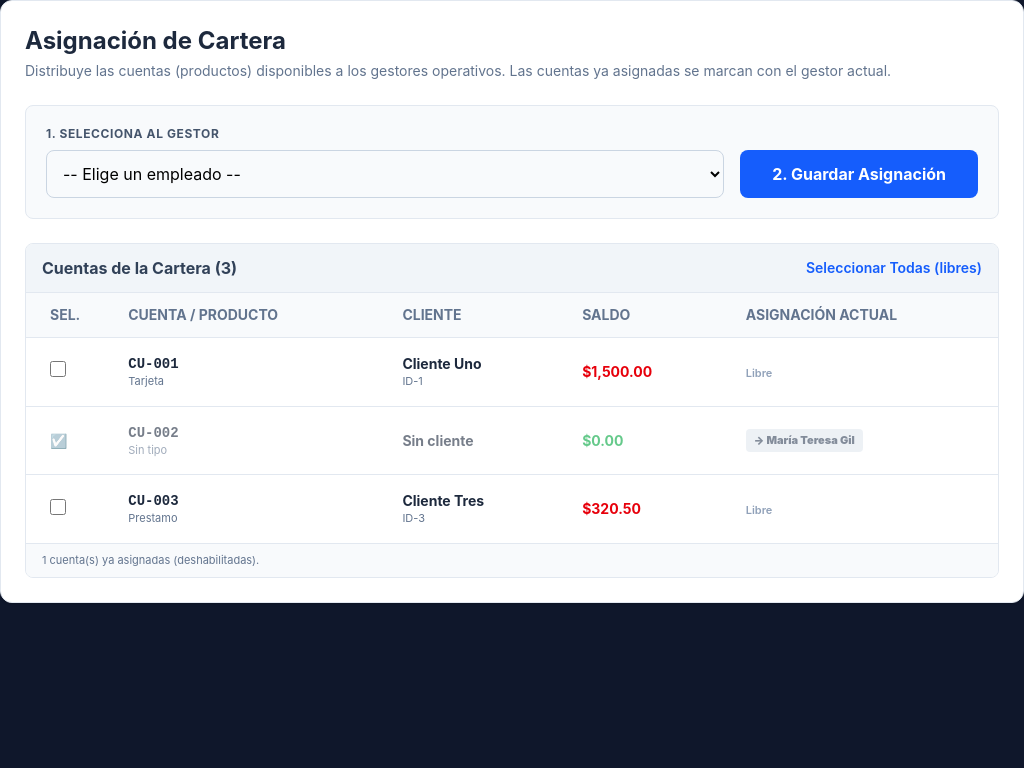
AsignacionCartera: seleccion › vuelve a desmarcarlo todo con el mismo boton
Expected: the text "CU-001" is shown, top-left (128, 356), bottom-right (179, 372)
Click the button "Seleccionar Todas (libres)". click: point(894, 268)
box: top-left (806, 258), bottom-right (982, 278)
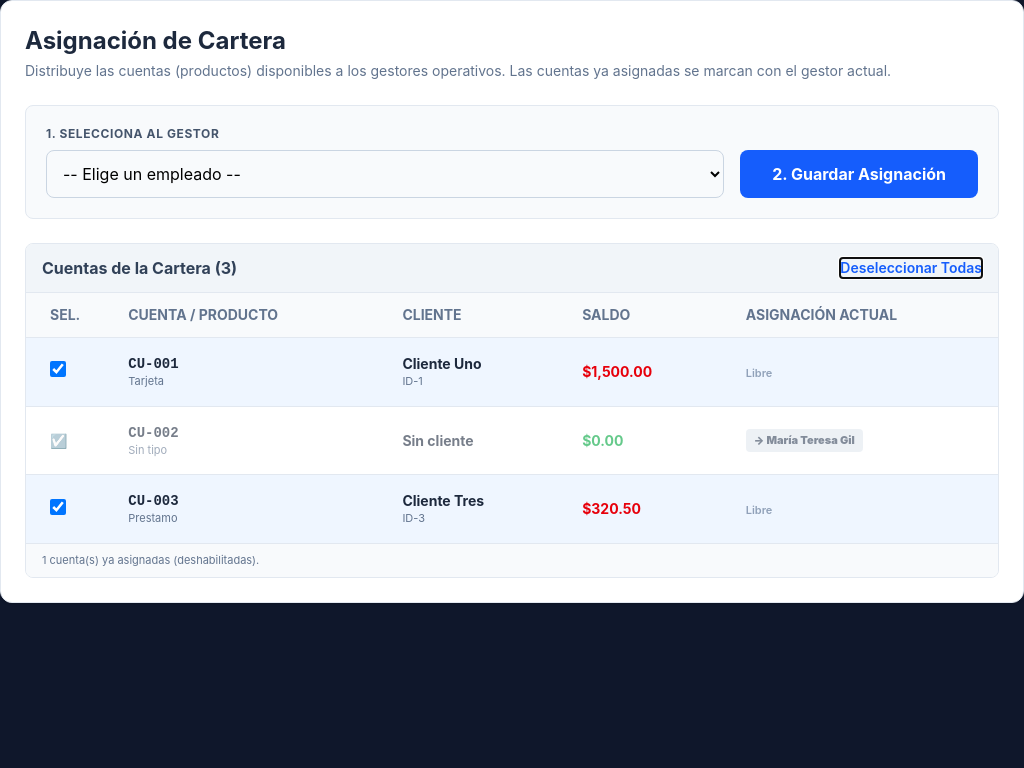
Click the button "Deseleccionar Todas". click: point(911, 268)
box: top-left (840, 258), bottom-right (982, 278)
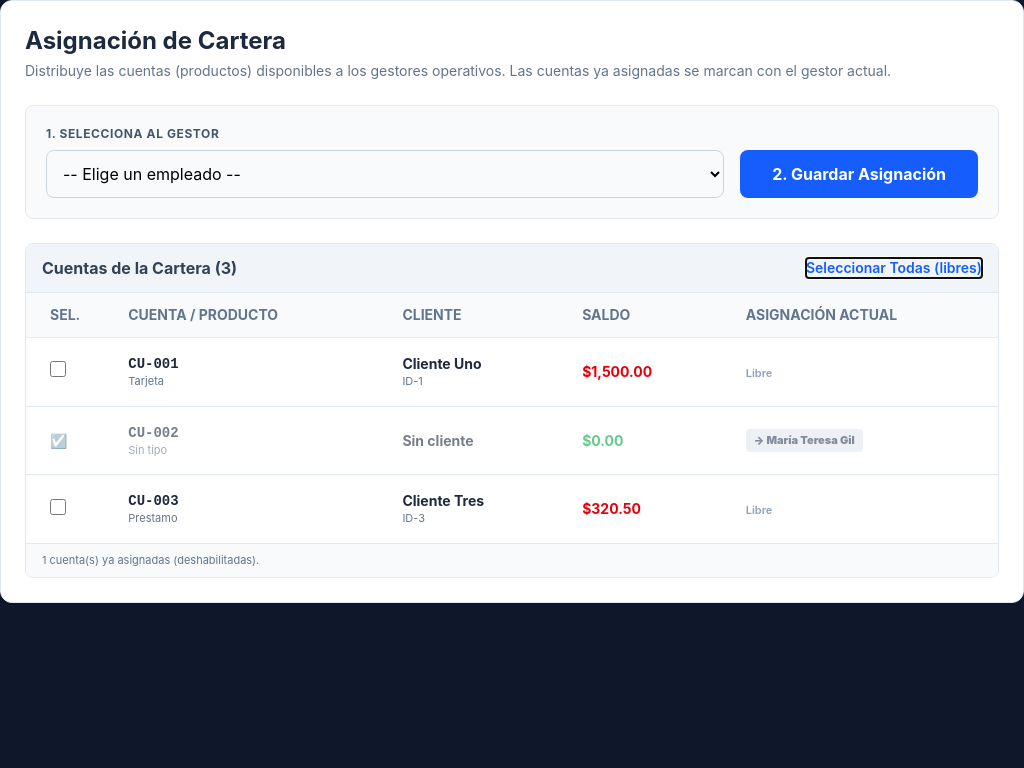
Now the checkbox next to "CU-001" is not checked, box top-left (50, 361), bottom-right (66, 377)
